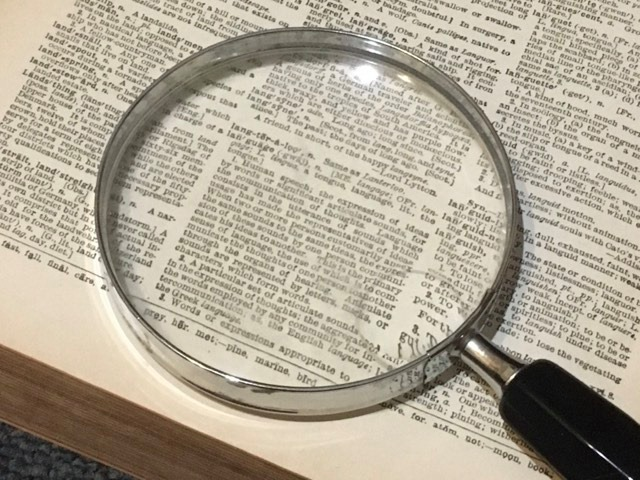magnifying-glass: (89, 27, 534, 425)
